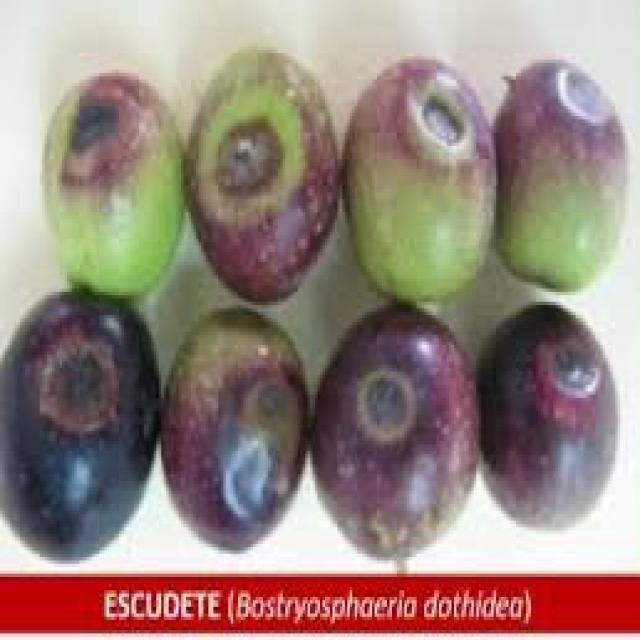Anthracnose: (0, 292, 156, 557), (313, 305, 477, 554), (344, 63, 494, 298), (191, 50, 332, 292), (161, 312, 305, 547), (44, 70, 178, 292), (482, 305, 612, 524), (497, 60, 628, 272)
